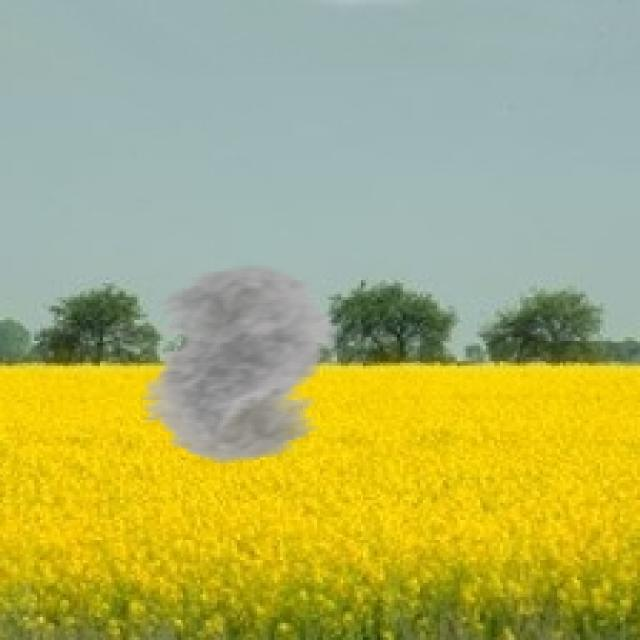smoke: (114, 263, 360, 466)
